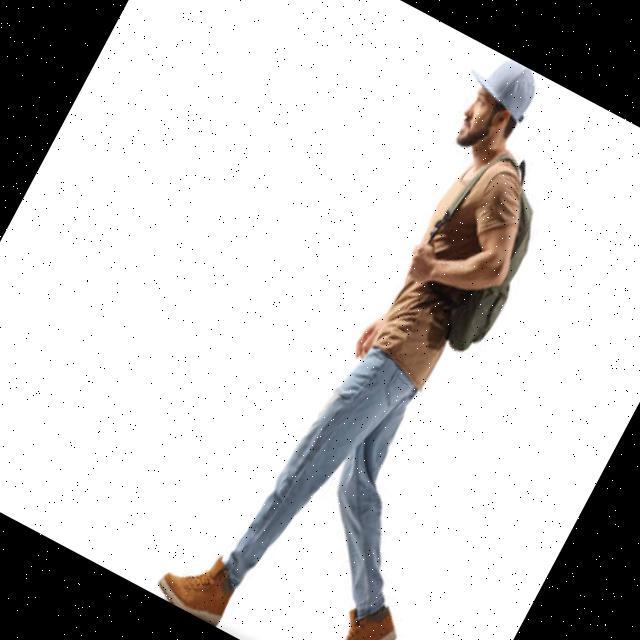Person: (155, 29, 640, 640)
